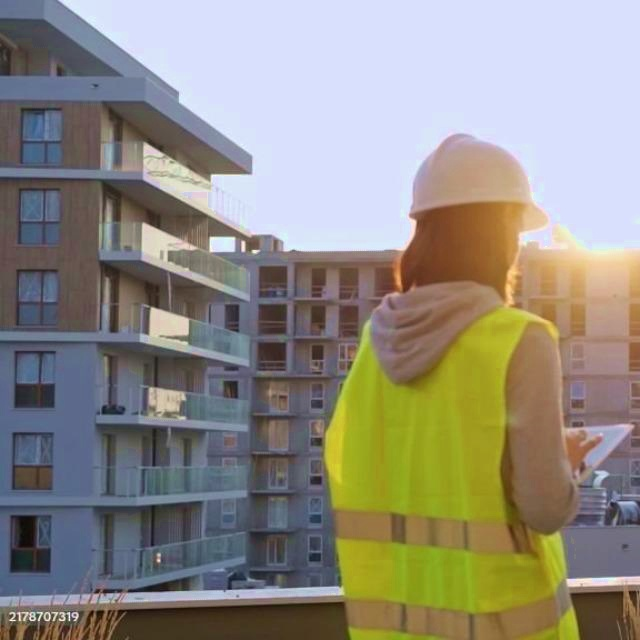Con_Casco: (408, 136, 548, 279)
Con_Chaleco: (322, 281, 580, 640)
